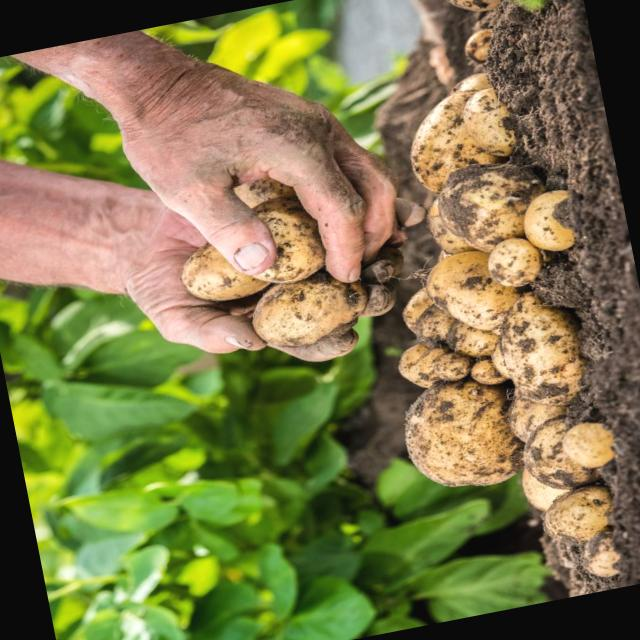potato: (395, 370, 528, 500), (245, 264, 363, 358)
